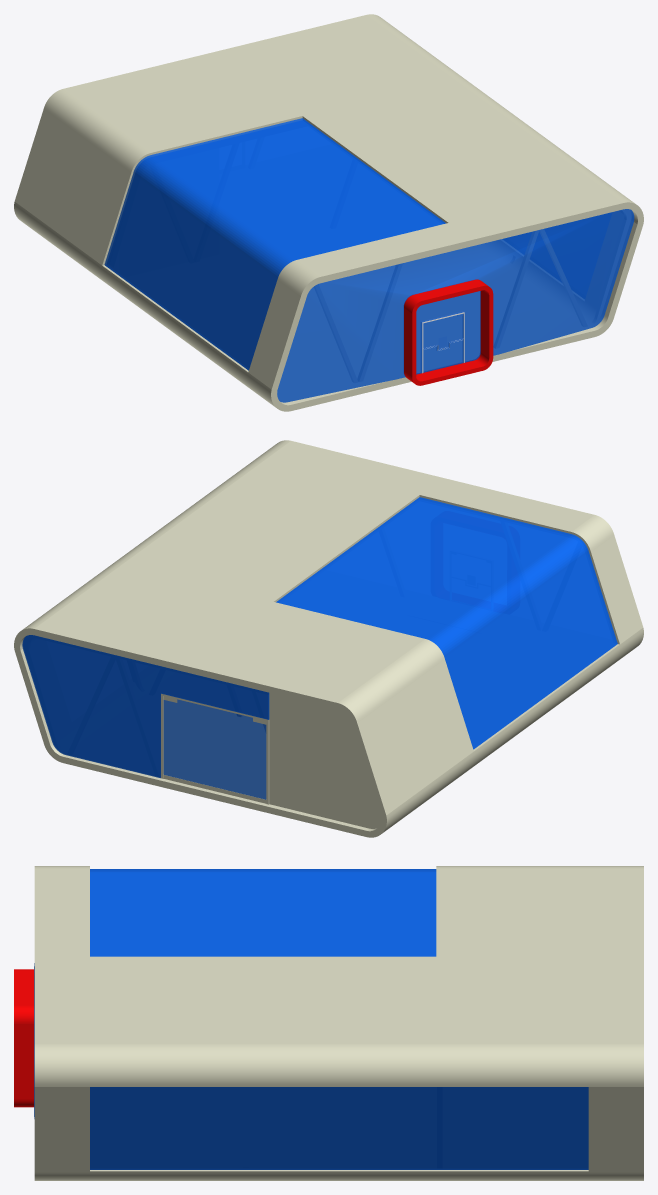
Rendered from Showroom.FBX.
3 renders of one model, top to bottom at view 1: azimuth 30°, elevation 25°; view 2: azimuth 150°, elevation 25°; view 3: azimuth 270°, elevation 25°, orthographic. The views are drawn at different scales.
Parts seen in each view (by area): view 1: Showroom, Windows; view 2: Showroom, Windows; view 3: Showroom, Windows.
Boxes of the visible parts, x1,y1,x2,y2 form: Showroom: (14,14,643,411); Windows: (104,118,634,402); Showroom: (14,440,643,837); Windows: (22,497,617,799); Showroom: (14,866,643,1180); Windows: (34,869,588,1169).
Bounding box in the file's own units: 725 × 895 × 236.
